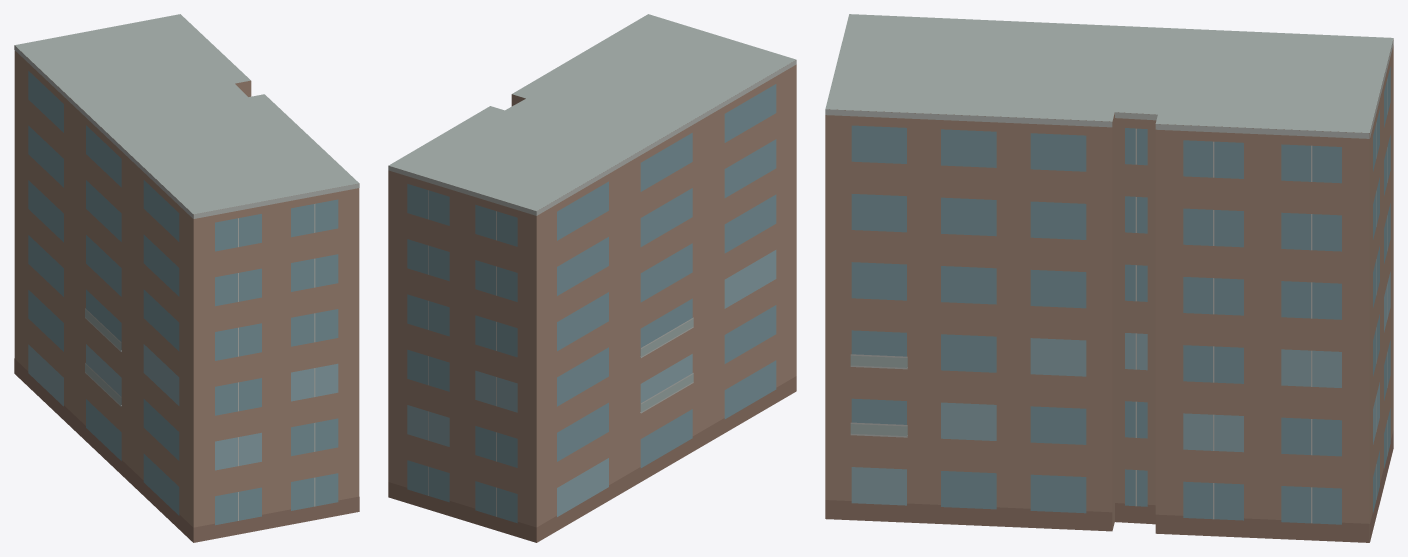
File: survey-upis-32565665.glb
The picture shows the model from 3 angles, left to right: view 1: azimuth 30°, elevation 25°; view 2: azimuth 150°, elevation 25°; view 3: azimuth 270°, elevation 25°; orthographic projection. The views are drawn at different scales.
Parts seen in each view (by area): view 1: survey-upis-32565665.tmp; view 2: survey-upis-32565665.tmp; view 3: survey-upis-32565665.tmp.
Boxes of the visible parts, x1,y1,x2,y2 form: survey-upis-32565665.tmp: (14, 14, 359, 542); survey-upis-32565665.tmp: (388, 14, 796, 542); survey-upis-32565665.tmp: (825, 14, 1393, 542).
Bounding box in the file's own units: 10.67 × 17.1 × 21.51.
